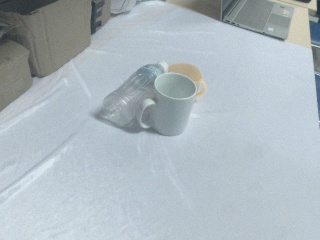bottle: (95, 61, 168, 128)
cup: (136, 72, 197, 137)
